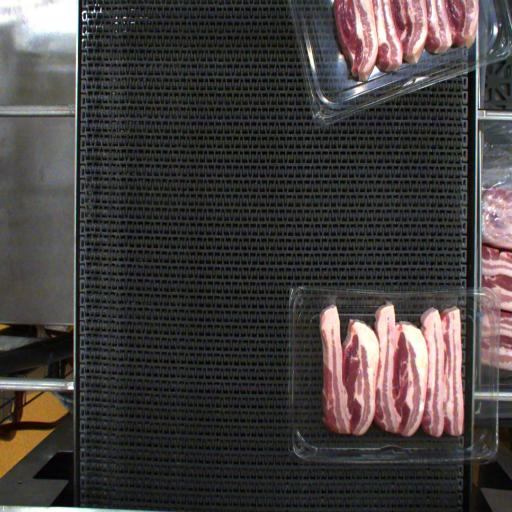packaging-error: (322, 284, 349, 318)
